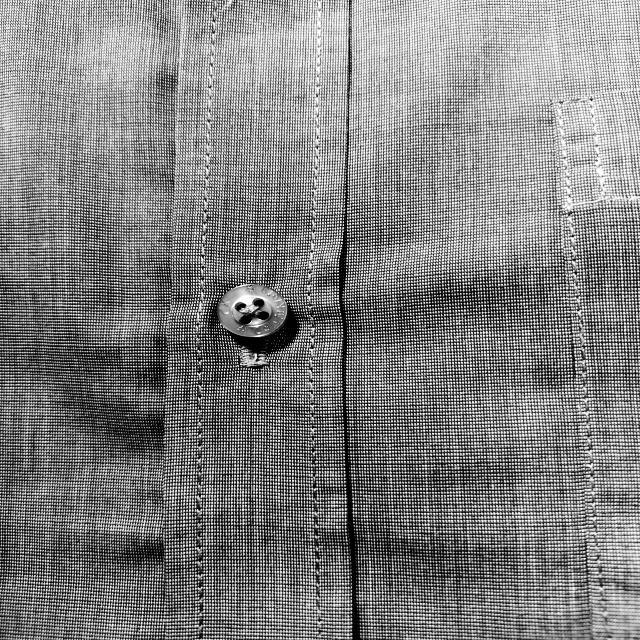Button_hike: (198, 280, 300, 379)
